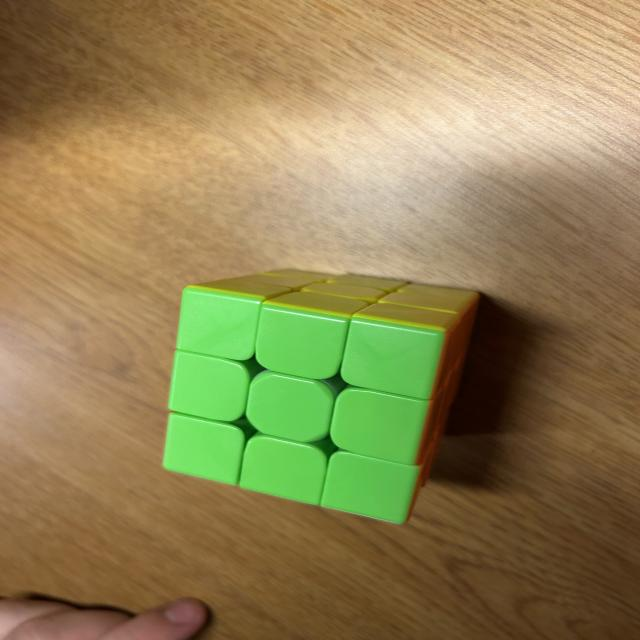Rubiks Cube: (158, 267, 478, 528)
